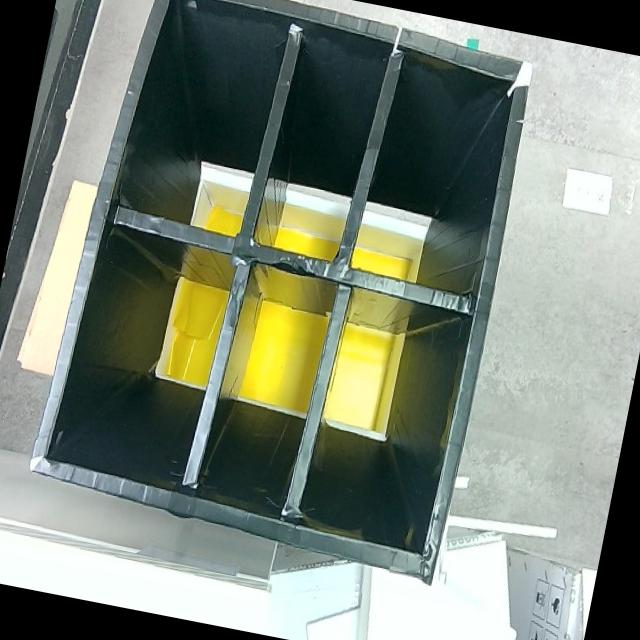box: (21, 0, 543, 584)
